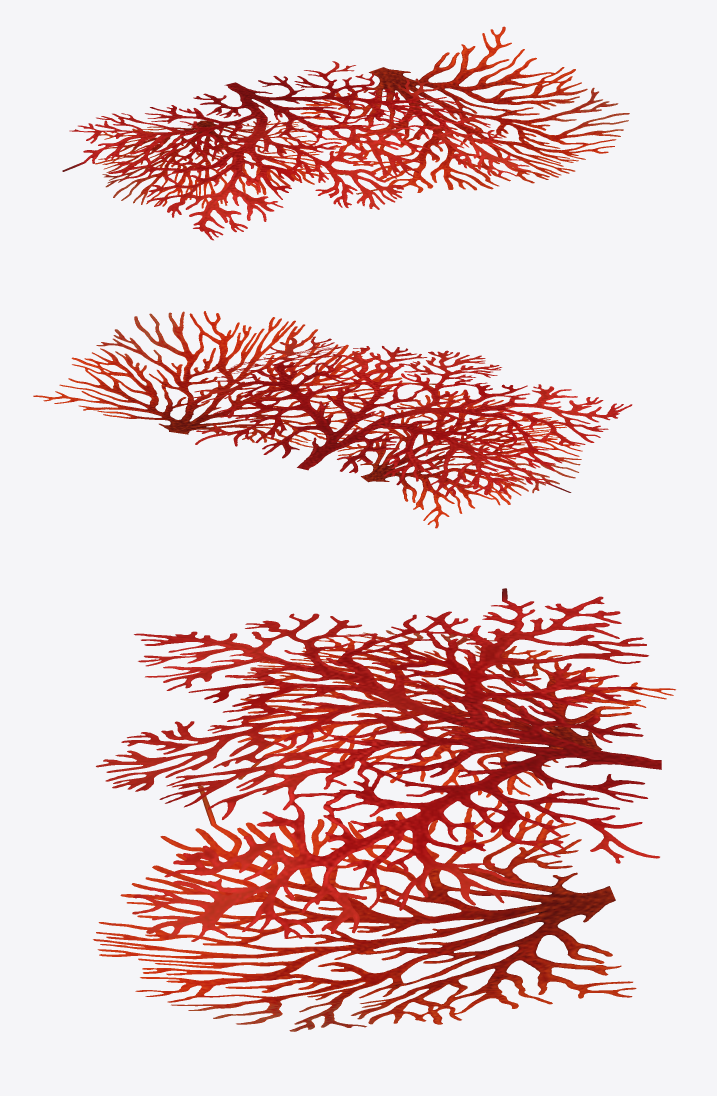
3 renders of one model, top to bottom at view 1: azimuth 30°, elevation 25°; view 2: azimuth 150°, elevation 25°; view 3: azimuth 270°, elevation 25°, orthographic. The views are drawn at different scales.
Visible parts, largest first — view 1: sc013; view 2: sc013; view 3: sc013.
Boxes of the visible parts, bbox=[...] form: sc013: bbox=[62, 26, 629, 240]; sc013: bbox=[33, 311, 632, 528]; sc013: bbox=[93, 588, 675, 1031].
Bounding box in the file's own units: 1109 × 84.56 × 677.
